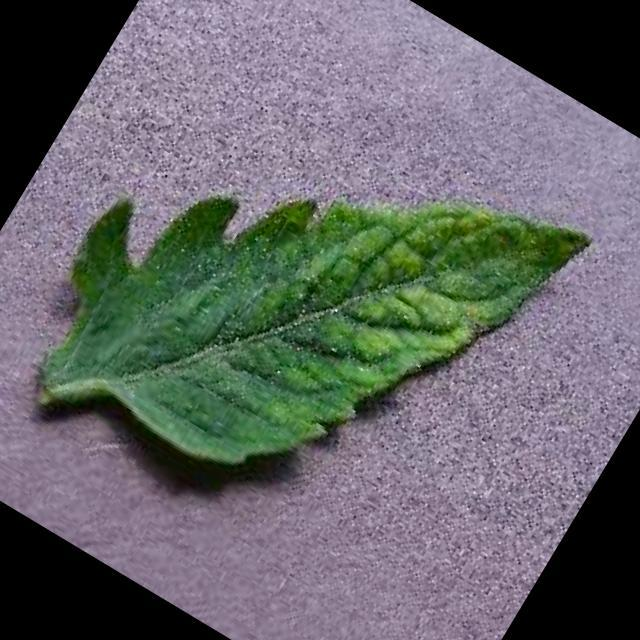Tomato mosaic virus leaf: (8, 1, 599, 578)
